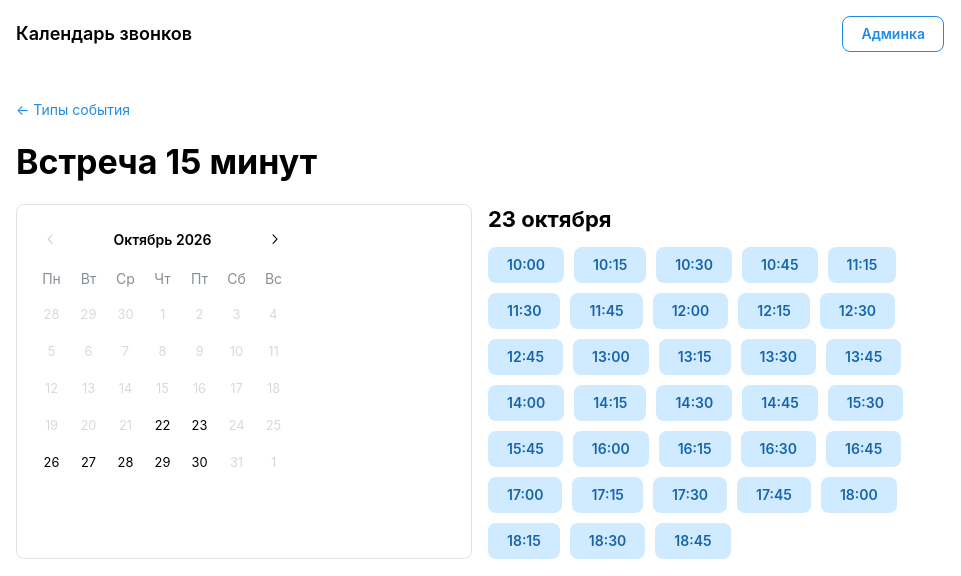
клик по слоту ведёт на /book/:slug/confirm?slot=…
The width and height of the screenshot is (961, 576).
Click the button "10:00".
click(526, 265)  # box x1=488 y1=247 x2=564 y2=283
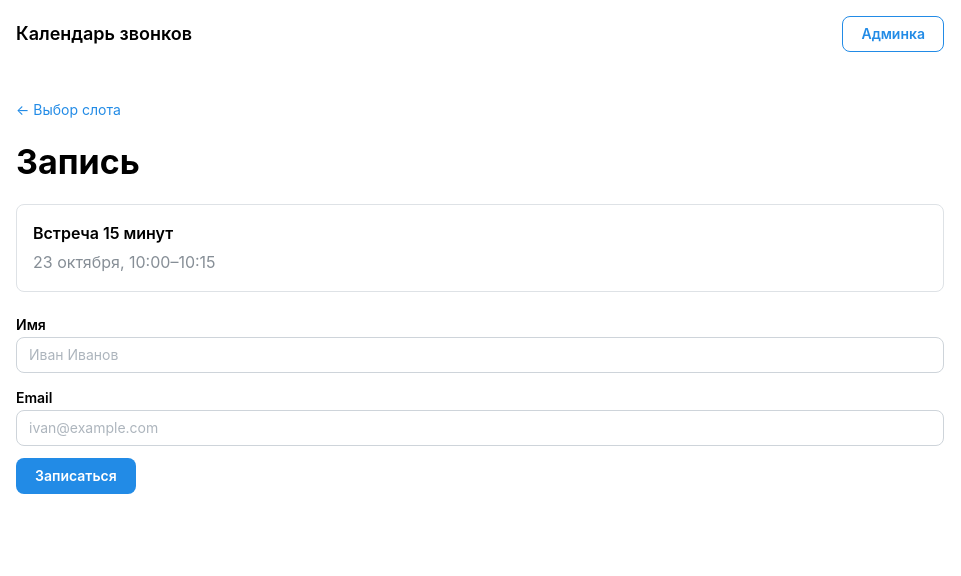
Check: the heading "Запись" is shown, box x1=16 y1=141 x2=140 y2=182
